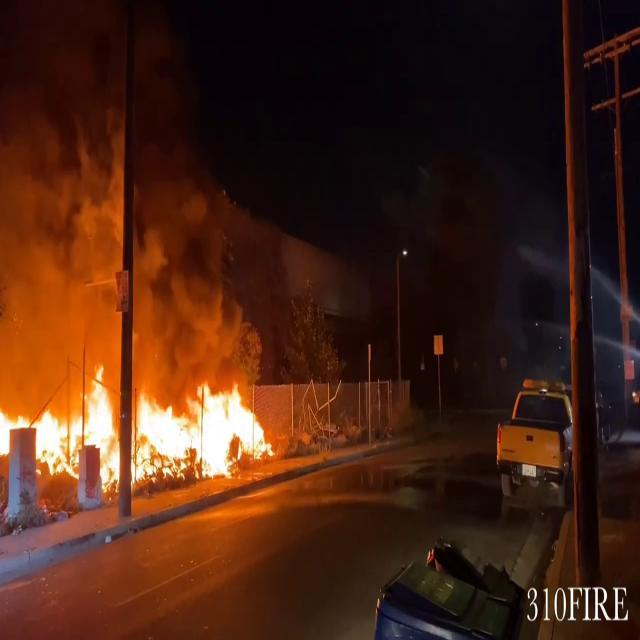Fire: (0, 360, 112, 486), (139, 379, 274, 475)
Smoke: (0, 0, 254, 375)
